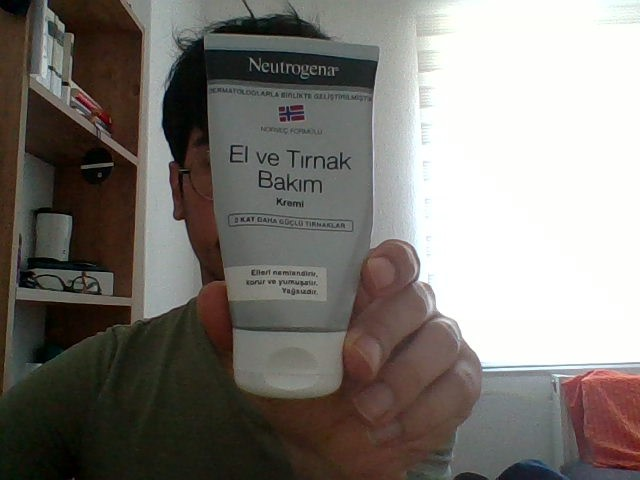Neutrogena: (204, 33, 379, 398)
